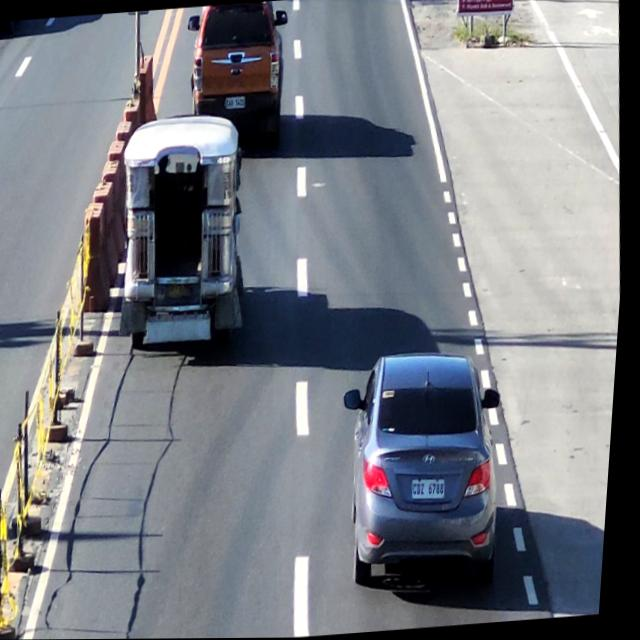Car: (344, 347, 517, 587), (187, 0, 292, 116)
Jeep: (113, 109, 260, 356)
License-Plate: (415, 475, 457, 508), (222, 92, 249, 113)
